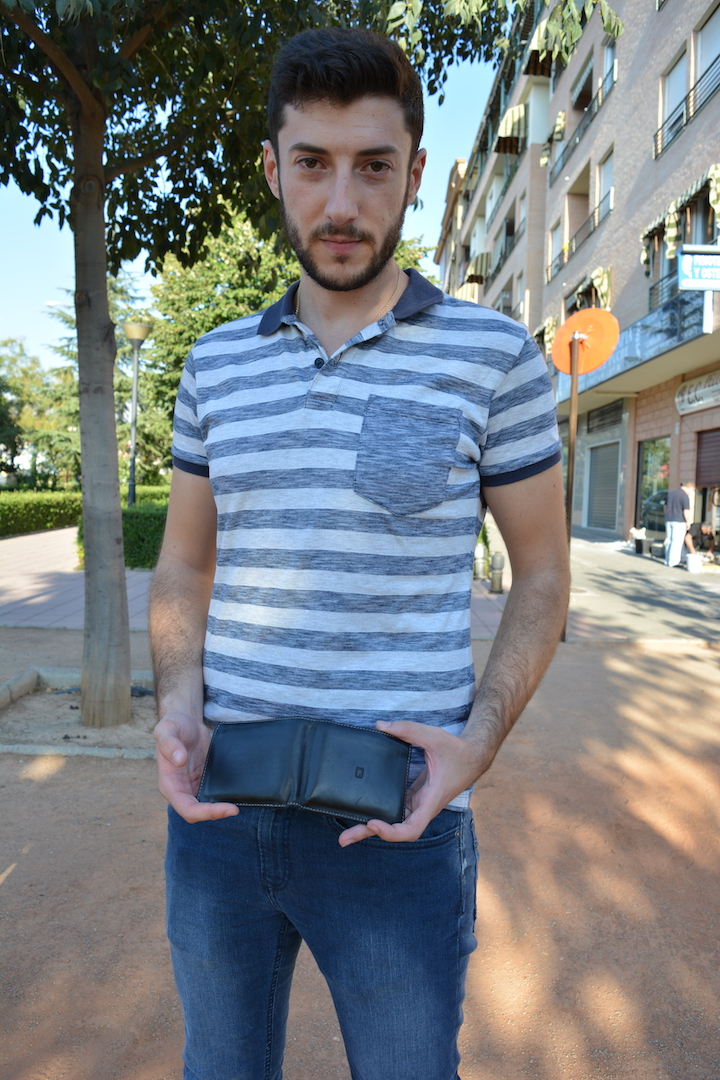monedero: (195, 715, 413, 826)
